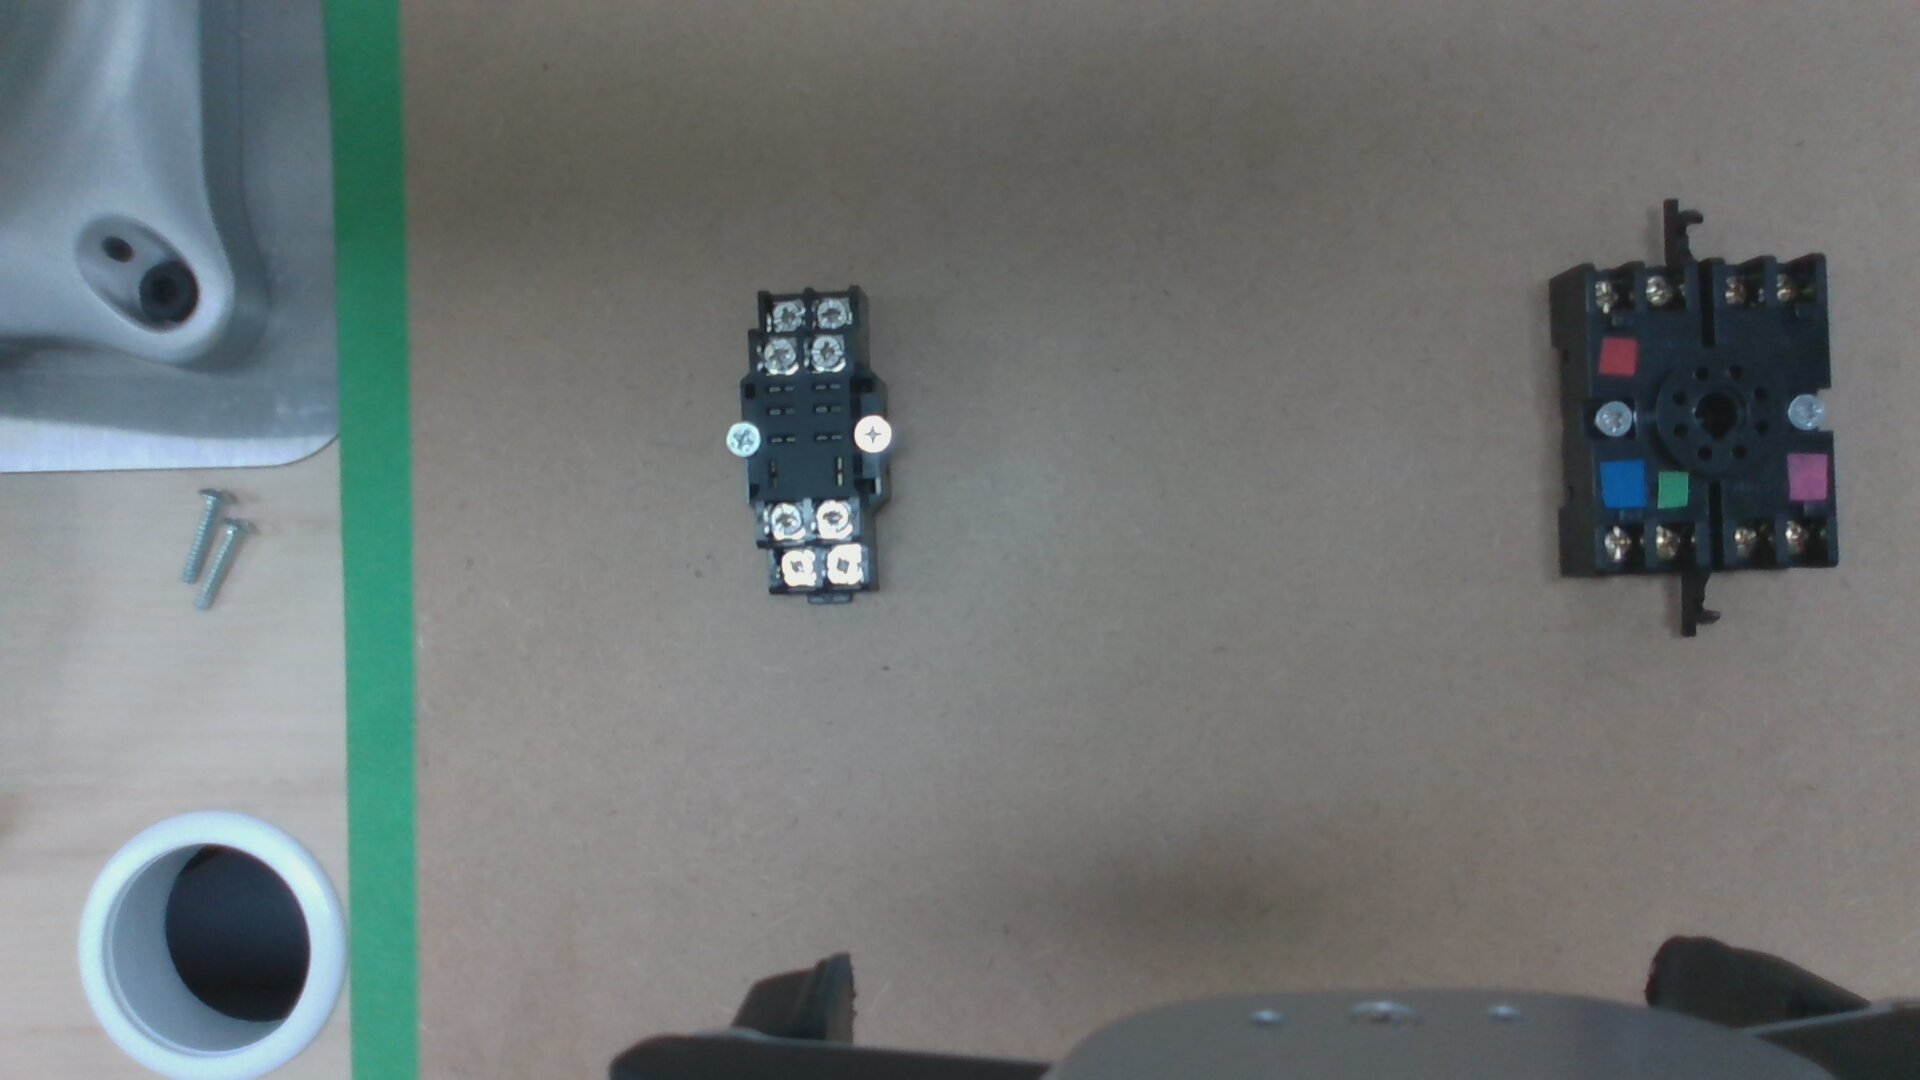relay 3: (812, 298, 848, 324)
relay 4: (770, 305, 802, 328)
relay 5: (825, 547, 858, 582)
relay 6: (779, 553, 812, 582)
relay 7: (814, 502, 847, 535)
relay 8: (766, 506, 800, 535)
